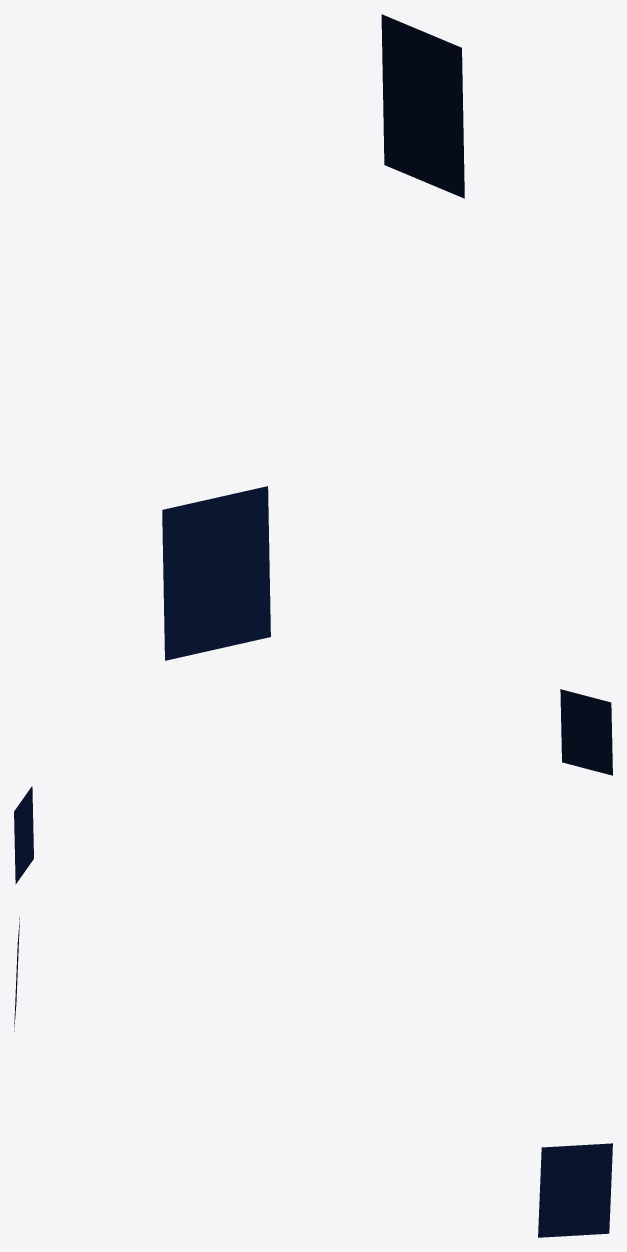
3 renders of one model, top to bottom at view 1: azimuth 30°, elevation 25°; view 2: azimuth 150°, elevation 25°; view 3: azimuth 270°, elevation 25°, orthographic. The views are drawn at different scales.
Parts seen in each view (by area): view 1: Cube.2064; view 2: Cube.2064; view 3: Cube.2064.
Part boxes in pixels (x1=…): Cube.2064: x1=162, y1=14, x2=464, y2=660; Cube.2064: x1=14, y1=689, x2=612, y2=884; Cube.2064: x1=14, y1=917, x2=612, y2=1237.
Bounding box in the file's own units: 1011 × 242 × 1183.
